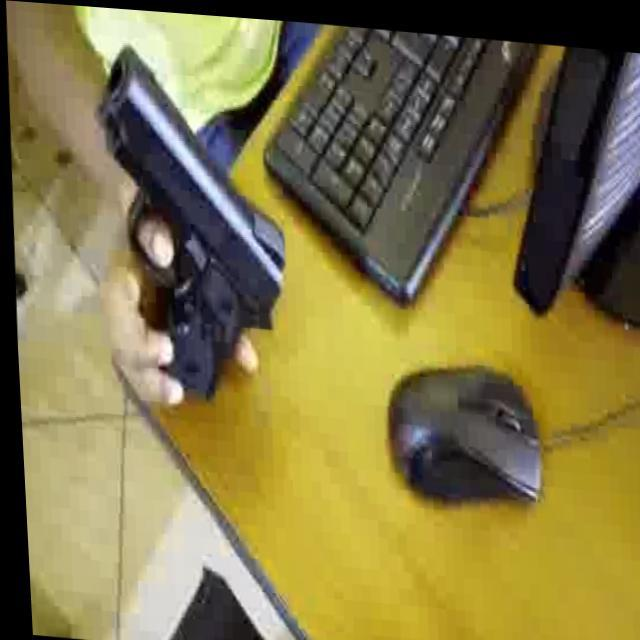weapon: (85, 37, 292, 406)
